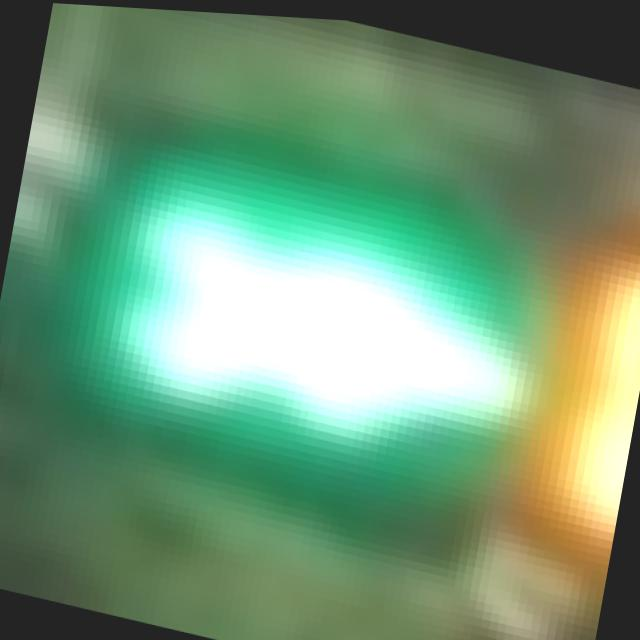green_light: (82, 110, 578, 589)
